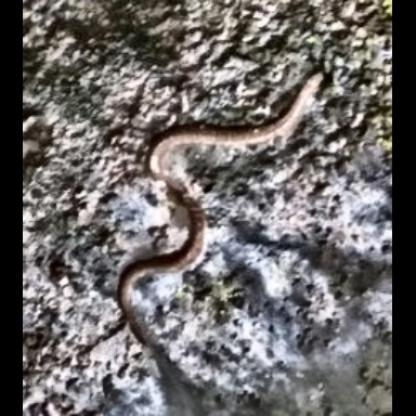Snake: (113, 66, 330, 350)
